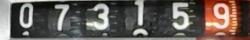digits: (127, 0, 154, 37), (171, 1, 196, 29), (85, 2, 110, 30), (212, 2, 230, 28), (54, 3, 69, 30), (19, 3, 33, 27)
